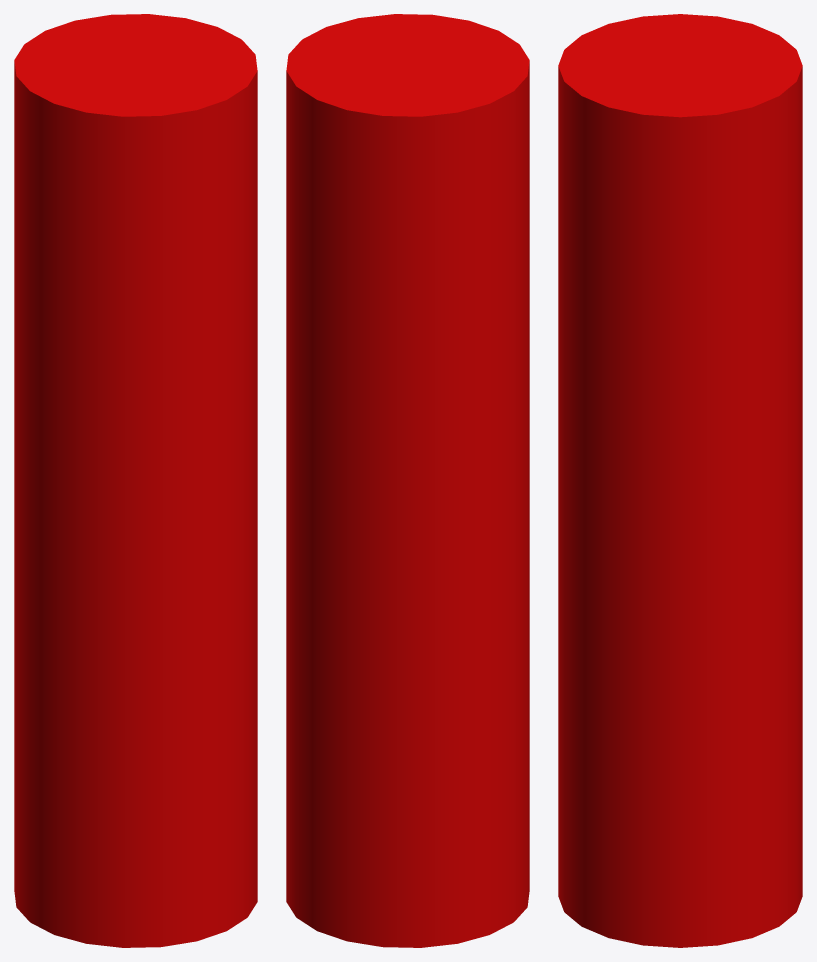
File: PoleVolume.fbx
The picture shows the model from 3 angles, left to right: view 1: azimuth 30°, elevation 25°; view 2: azimuth 150°, elevation 25°; view 3: azimuth 270°, elevation 25°; orthographic projection.
Visible parts, largest first — view 1: pCylinder2; view 2: pCylinder2; view 3: pCylinder2.
Boxes of the visible parts, x1=… form: pCylinder2: x1=14, y1=14, x2=257, y2=947; pCylinder2: x1=286, y1=14, x2=529, y2=947; pCylinder2: x1=558, y1=14, x2=802, y2=947.
Size of the model in its own units: 57.34 by 215 by 57.34.
